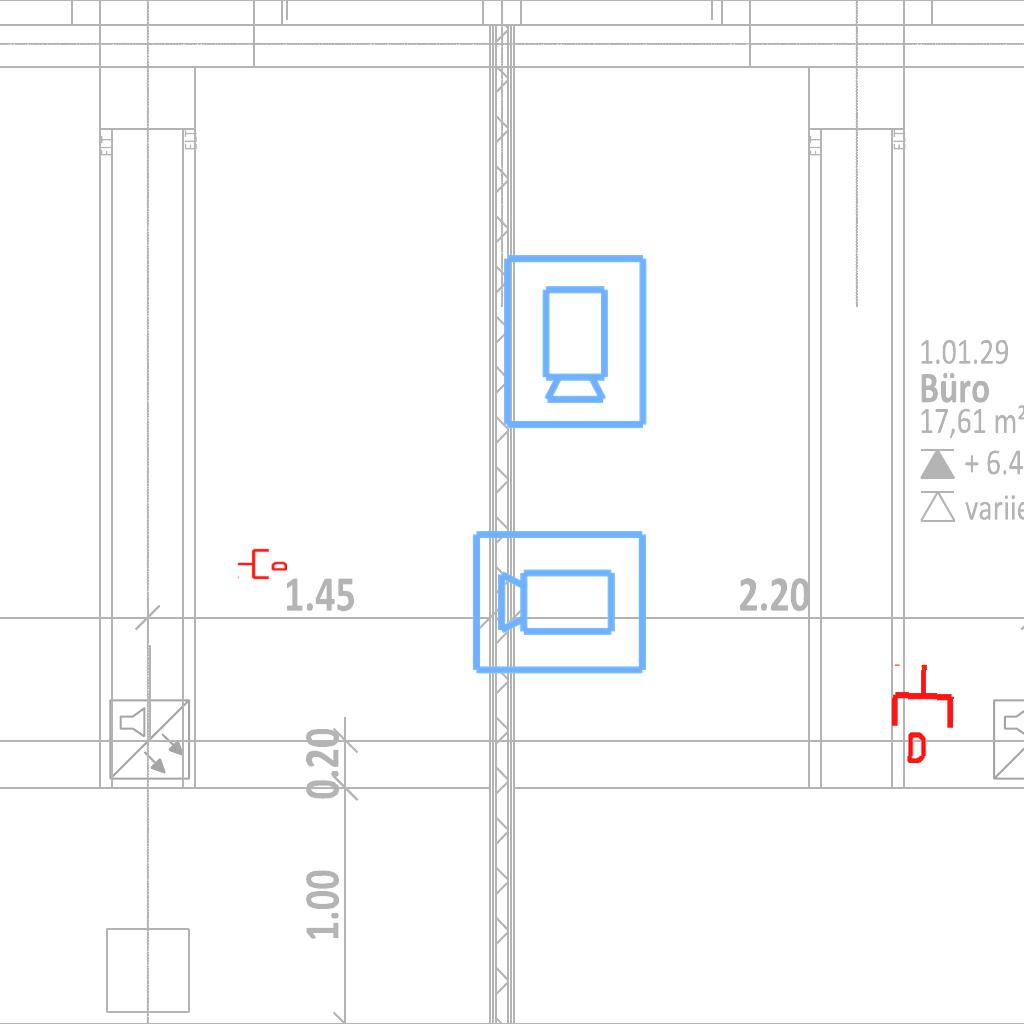Datenanschluss_einfach: (886, 661, 959, 765), (237, 547, 287, 581)
KFO_Kamera_mit_Festobjektiv: (469, 524, 651, 678), (497, 250, 651, 432)
